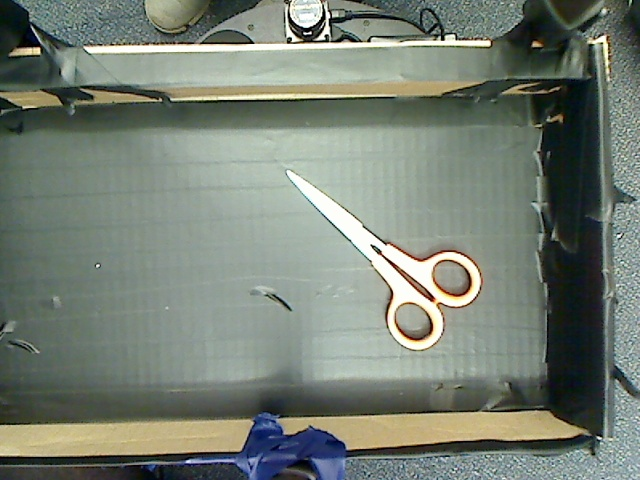scissors: (276, 160, 483, 351)
